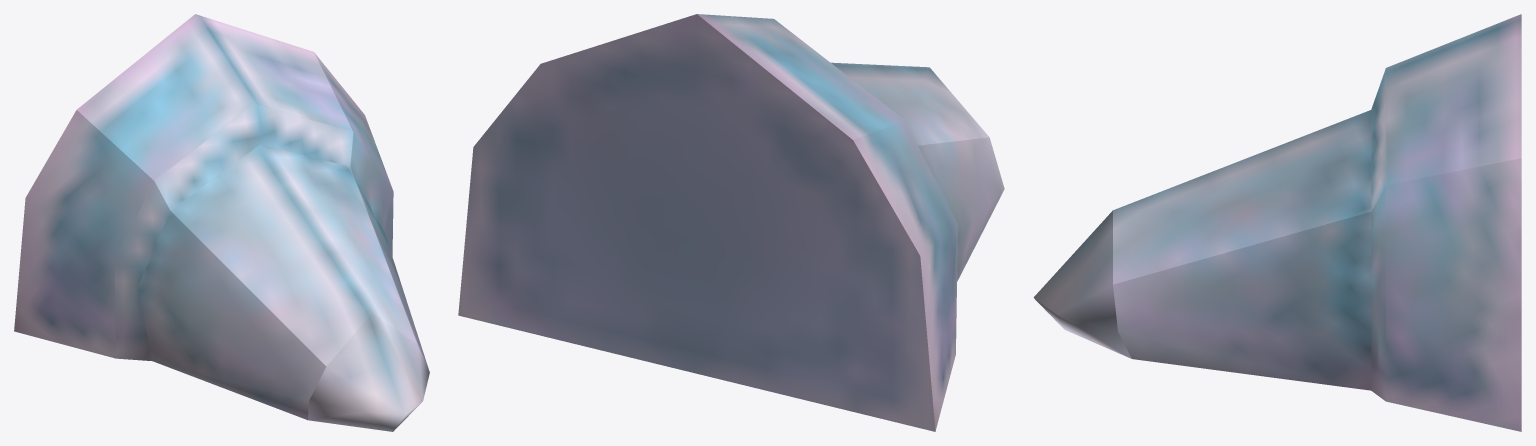
File: jellopy.fbx
The picture shows the model from 3 angles, left to right: view 1: azimuth 30°, elevation 25°; view 2: azimuth 150°, elevation 25°; view 3: azimuth 270°, elevation 25°; orthographic projection. The views are drawn at different scales.
Parts seen in each view (by area): view 1: pCube14; view 2: pCube14; view 3: pCube14.
Part boxes in pixels (x1,y1,x2,y2): pCube14: (14, 14, 429, 431); pCube14: (458, 14, 1004, 431); pCube14: (1033, 14, 1521, 431).
Bounding box in the file's own units: 82.23 × 59.25 × 83.01.
